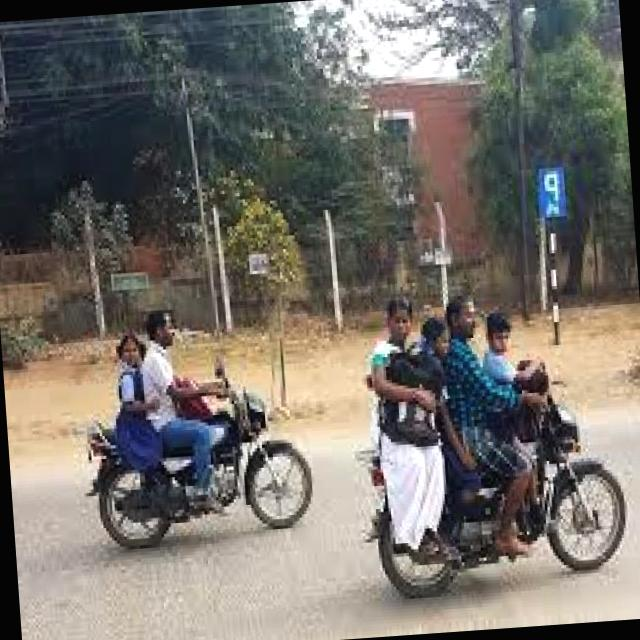motorcycle: (351, 390, 637, 610), (80, 390, 316, 554)
person: (348, 291, 436, 490), (140, 301, 213, 508), (422, 287, 497, 456), (456, 302, 534, 463), (107, 329, 168, 484), (402, 307, 461, 458)
rider_region: (353, 276, 633, 602), (74, 296, 320, 558)
